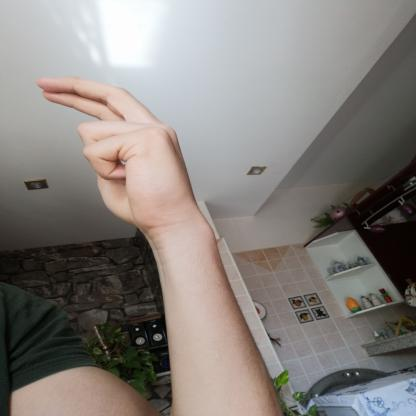ZAY: (28, 71, 210, 236)
